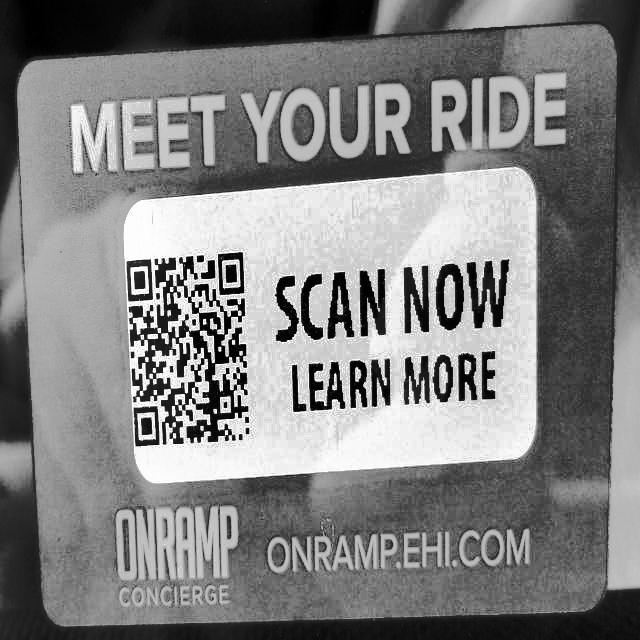qr_code: (112, 228, 273, 468)
